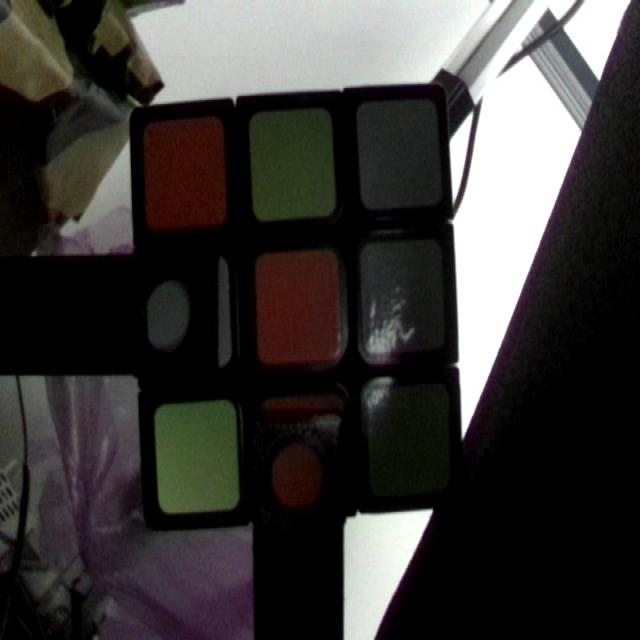b: (368, 379, 465, 498)
o: (255, 250, 345, 358)
r: (264, 404, 359, 516), (139, 120, 227, 229)
w: (358, 240, 457, 360), (352, 90, 449, 211), (142, 259, 234, 366)
y: (152, 402, 243, 512), (250, 103, 336, 216)
